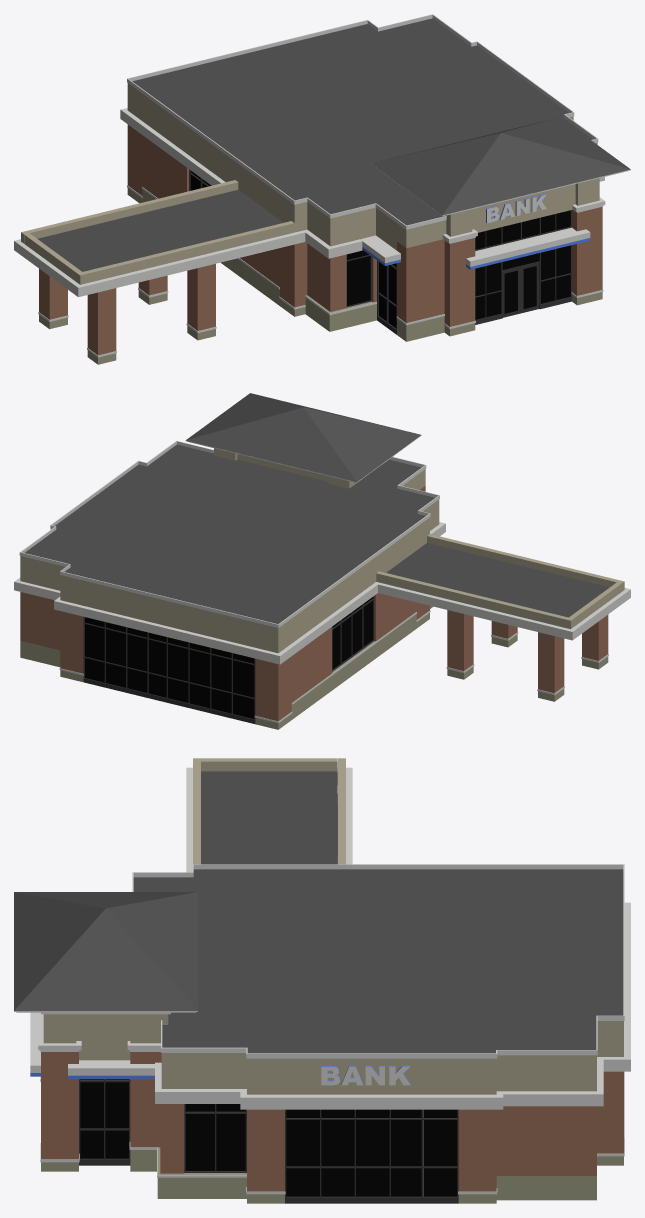
The model's file is dbank.glb.
3 renders of one model, top to bottom at view 1: azimuth 30°, elevation 25°; view 2: azimuth 150°, elevation 25°; view 3: azimuth 270°, elevation 25°, orthographic. The views are drawn at different scales.
Parts seen in each view (by area): view 1: Line1919, Line1923, Rectangle634, Line1917, Line1898, Line1918, Line1896, Glass_-_03, Line1930, Line1842, Line1838, Line1931 (+26 smaller); view 2: Line1919, Line1923, Line1917, Glass_-_08, Line1898, Rectangle634, Line1918, Line1911, Line1931, Line1880, Line1912, Line1916 (+12 smaller); view 3: Line1919, Line1923, Line1917, Glass_-_05, Rectangle634, Line1898, Line1874, Line1918, Line1838, Glass_-_01, Glass_-_02, Line1872 (+19 smaller).
Boxes of the visible parts, left/top/right/bottom form: Line1919: left=132, top=18, right=592, bottom=225; Line1923: left=371, top=117, right=630, bottom=215; Rectangle634: left=37, top=189, right=283, bottom=271; Line1917: left=127, top=83, right=597, bottom=246; Line1898: left=14, top=108, right=604, bottom=297; Line1918: left=127, top=14, right=598, bottom=229; Line1896: left=397, top=239, right=444, bottom=322; Glass_-_03: left=475, top=245, right=570, bottom=319; Line1930: left=77, top=221, right=294, bottom=284; Line1842: left=444, top=238, right=475, bottom=326; Line1838: left=572, top=206, right=602, bottom=295; Line1931: left=21, top=180, right=238, bottom=243; Line1919: left=25, top=444, right=434, bottom=623; Line1923: left=186, top=393, right=420, bottom=481; Line1917: left=20, top=499, right=439, bottom=653; Glass_-_08: left=85, top=617, right=254, bottom=718; Line1898: left=14, top=522, right=630, bottom=664; Rectangle634: left=386, top=543, right=609, bottom=617; Line1918: left=19, top=440, right=439, bottom=627; Line1911: left=83, top=617, right=255, bottom=723; Line1931: left=376, top=571, right=573, bottom=629; Line1880: left=255, top=656, right=291, bottom=721; Line1912: left=291, top=614, right=416, bottom=719; Line1916: left=291, top=627, right=332, bottom=702; Line1919: left=133, top=869, right=623, bottom=1053; Line1923: left=14, top=892, right=197, bottom=1010; Line1917: left=161, top=1021, right=623, bottom=1094; Glass_-_05: left=286, top=1109, right=457, bottom=1196; Rectangle634: left=201, top=771, right=337, bottom=864; Line1898: left=155, top=767, right=630, bottom=1109; Line1874: left=496, top=1106, right=596, bottom=1175; Line1918: left=132, top=864, right=624, bottom=1058; Line1838: left=41, top=1052, right=78, bottom=1159; Glass_-_01: left=185, top=1104, right=245, bottom=1170; Glass_-_02: left=80, top=1079, right=128, bottom=1158; Line1872: left=285, top=1109, right=458, bottom=1203.
Bounding box in the file's own units: 29.24 × 8.89 × 23.11.
